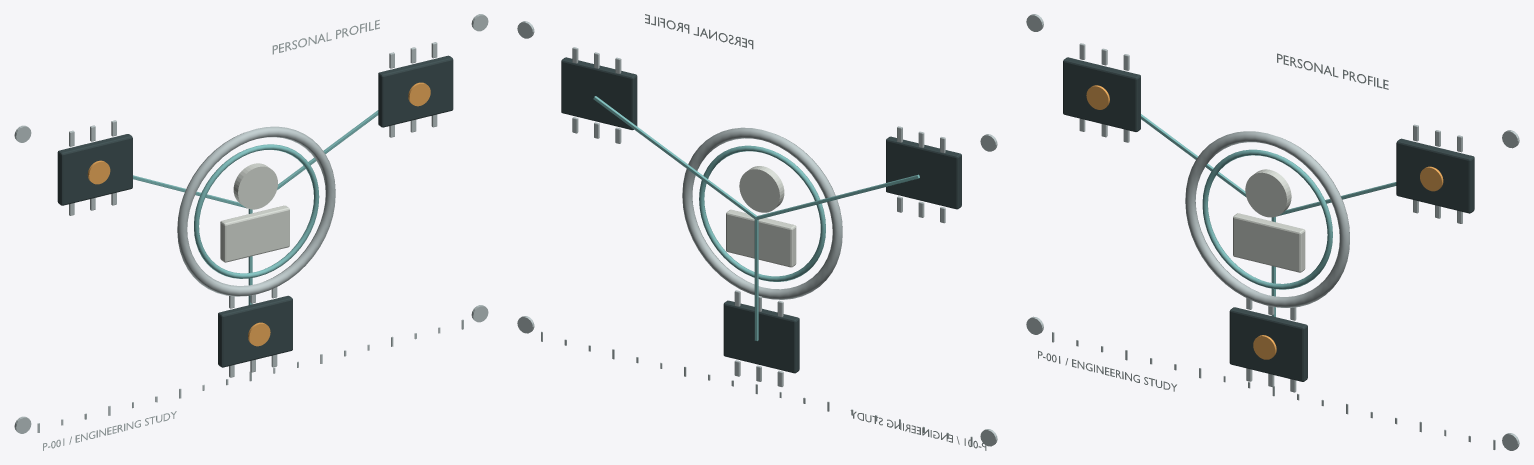
Rendered from profile.glb.
3 renders of one model, left to right at view 1: azimuth 30°, elevation 25°; view 2: azimuth 150°, elevation 25°; view 3: azimuth 330°, elevation 25°, orthographic. The views are drawn at different scales.
Parts seen in each view (by area): view 1: optical-core__Project_Graphite, optical-lenses__Project_Silver, optical-core__Project_Ceramic, optical-lenses__Project_Trace, optical-core__Project_Amber; view 2: optical-core__Project_Graphite, optical-lenses__Project_Silver, optical-lenses__Project_Trace, optical-core__Project_Ceramic; view 3: optical-core__Project_Graphite, optical-lenses__Project_Silver, optical-core__Project_Ceramic, optical-lenses__Project_Trace, optical-core__Project_Amber.
Boxes of the visible parts, bbox=[...] form: optical-core__Project_Graphite: bbox=[57, 55, 453, 367]; optical-lenses__Project_Silver: bbox=[14, 14, 488, 450]; optical-core__Project_Ceramic: bbox=[220, 163, 289, 262]; optical-lenses__Project_Trace: bbox=[133, 110, 378, 304]; optical-core__Project_Amber: bbox=[87, 82, 430, 346]; optical-core__Project_Graphite: bbox=[561, 57, 961, 373]; optical-lenses__Project_Silver: bbox=[517, 14, 997, 450]; optical-lenses__Project_Trace: bbox=[593, 96, 919, 341]; optical-core__Project_Ceramic: bbox=[726, 166, 796, 267]; optical-core__Project_Graphite: bbox=[1063, 57, 1474, 381]; optical-lenses__Project_Silver: bbox=[1026, 14, 1519, 450]; optical-core__Project_Ceramic: bbox=[1233, 169, 1305, 272]; optical-lenses__Project_Trace: bbox=[1141, 114, 1396, 316]; optical-core__Project_Amber: bbox=[1086, 85, 1443, 359].
Size of the model in its own units: 4.01 by 2.83 by 0.1497.
